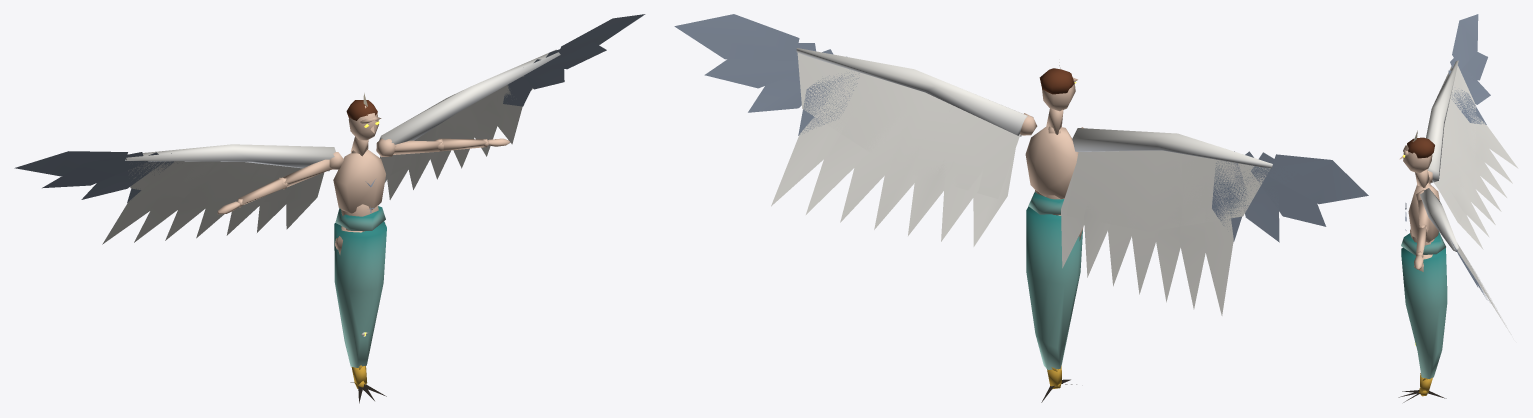
The model's file is sirena_lod.glb.
3 views of the same model, side by side, from view 1: azimuth 30°, elevation 25°; view 2: azimuth 150°, elevation 25°; view 3: azimuth 270°, elevation 25° (orthographic). The views are drawn at different scales.
Parts seen in each view (by area): view 1: upperarm_R, upperarm_L, thigh_L, torso, head; view 2: upperarm_L, upperarm_R, thigh_L, torso, head; view 3: upperarm_R, thigh_L, upperarm_L, torso, head, shin_L, forearm_L.
Boxes of the visible parts, x1,y1,x2,y2 form: upperarm_R: (14, 144, 343, 244); upperarm_L: (376, 14, 645, 199); thigh_L: (334, 221, 386, 367); torso: (333, 136, 385, 231); head: (346, 93, 381, 140); upperarm_L: (674, 14, 1037, 246); upperarm_R: (1061, 127, 1368, 315); thigh_L: (1026, 206, 1082, 369); torso: (1025, 108, 1078, 215); head: (1039, 62, 1077, 111); upperarm_R: (1426, 14, 1518, 249); thigh_L: (1401, 247, 1447, 378); upperarm_L: (1416, 188, 1511, 334); torso: (1401, 169, 1445, 255); head: (1399, 130, 1434, 173); shin_L: (1398, 373, 1446, 402); forearm_L: (1416, 224, 1428, 257).
Size of the model in its own units: 4.41 by 2.02 by 0.8281.
